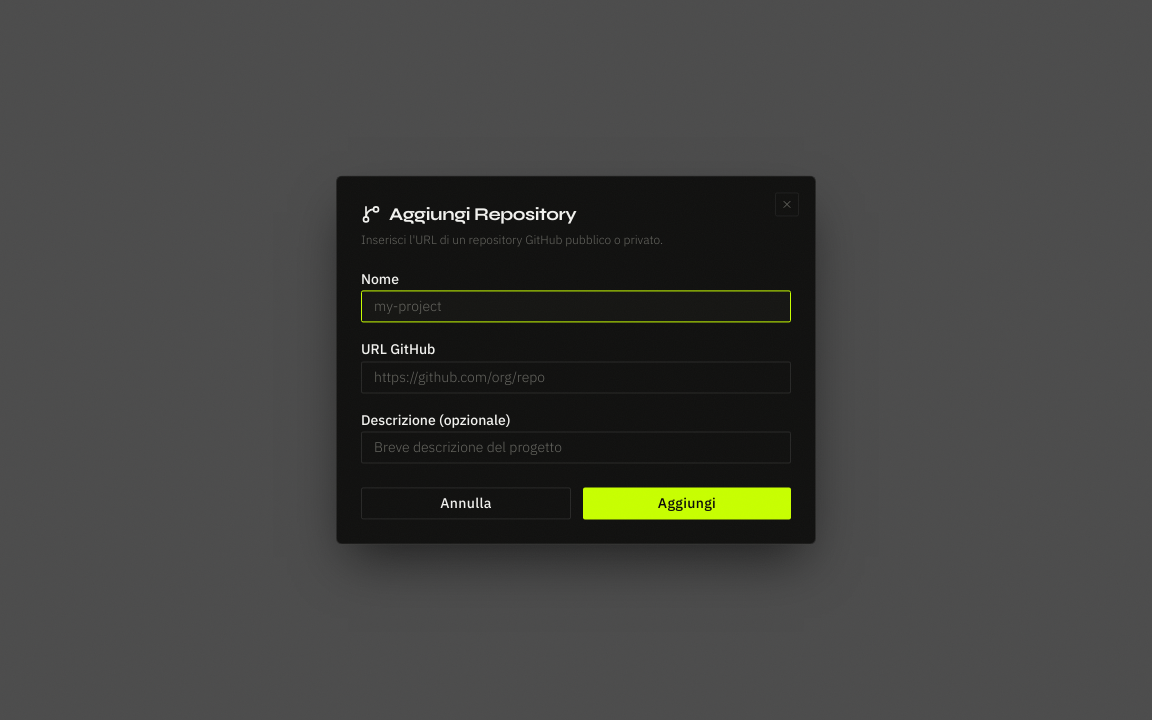
Scenario: AddRepositoryModal › shows error for syntactically invalid URL
Type "my-repo" into the field with placeholder "my-project" at (576, 307), box x1=361 y1=291 x2=791 y2=323
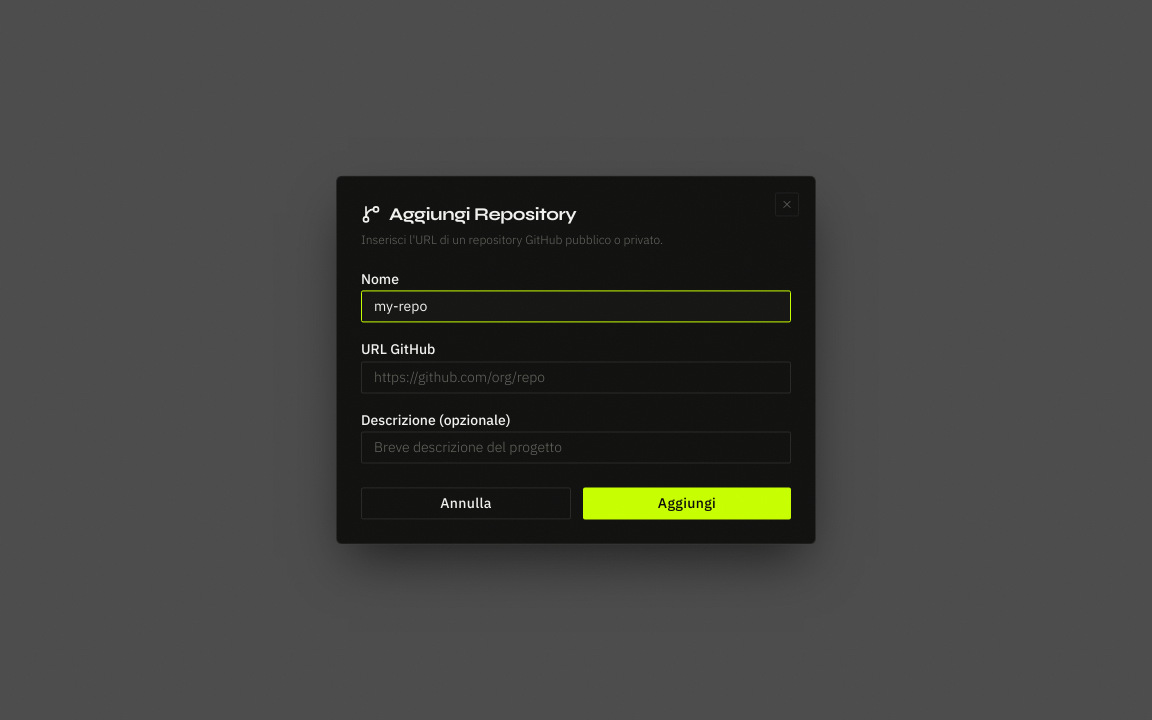
Type "not-a-url" into the field with placeholder "https://github.com/org/repo" at (576, 377), box x1=361 y1=361 x2=791 y2=393
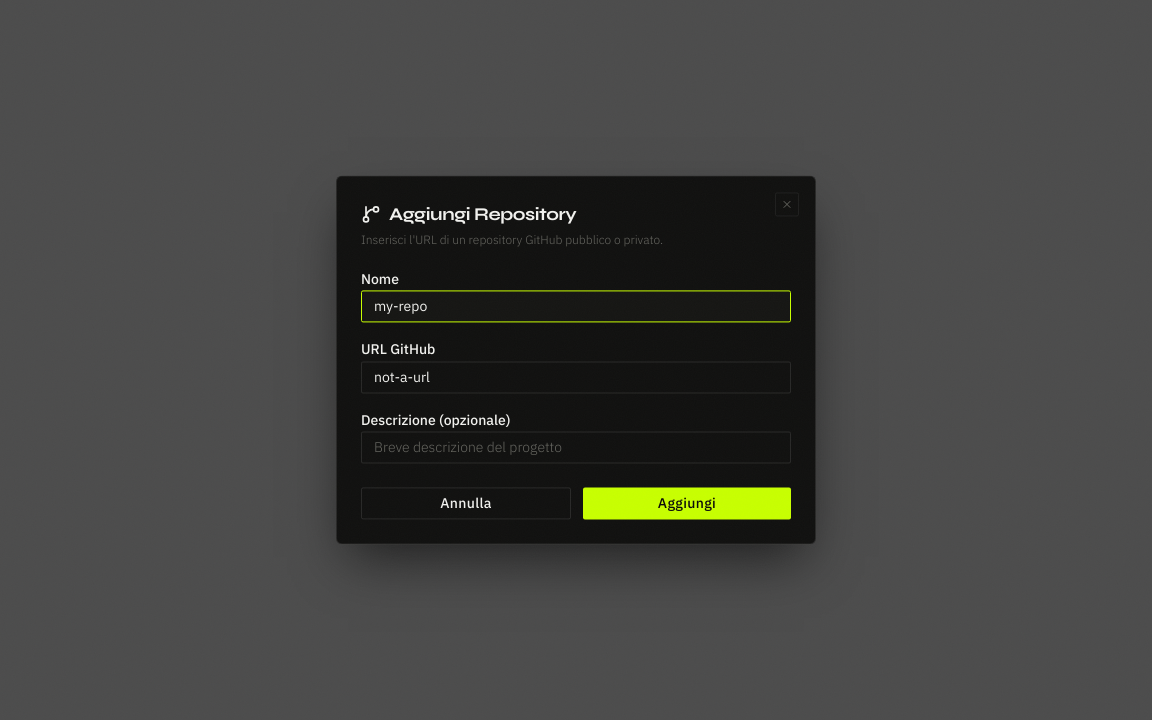
Click the button "Aggiungi" at (687, 504), box x1=583 y1=488 x2=791 y2=520
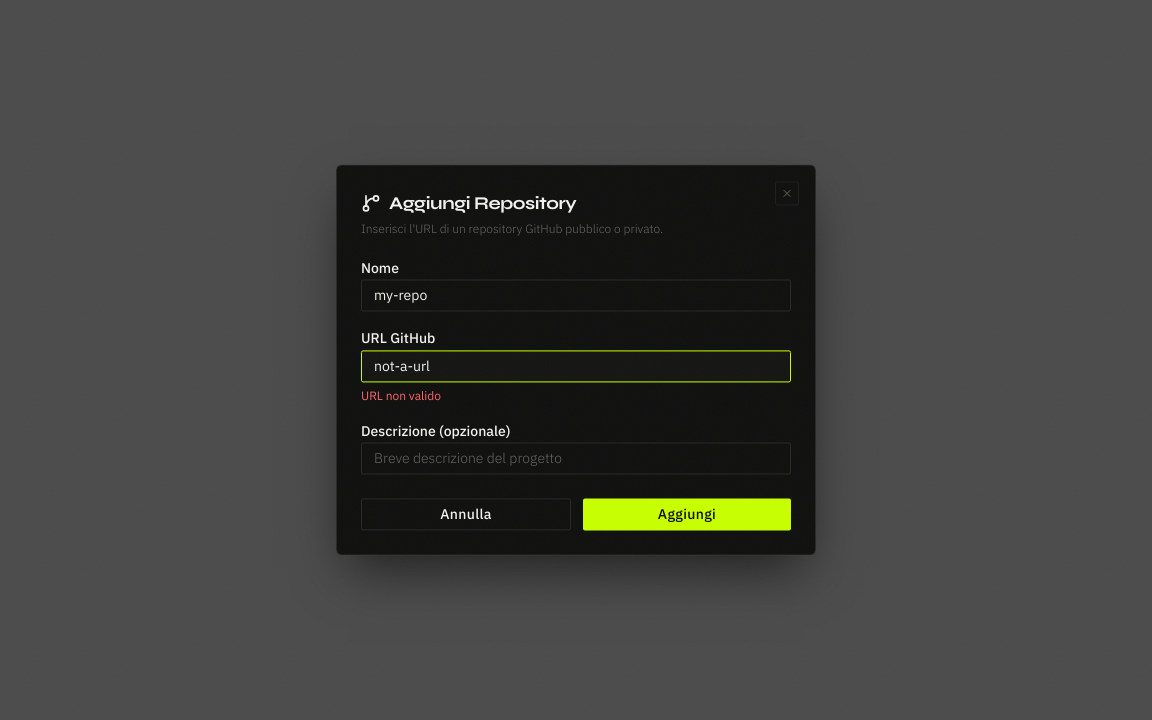
Now the text "URL non valido" is shown, box x1=361 y1=388 x2=441 y2=403
